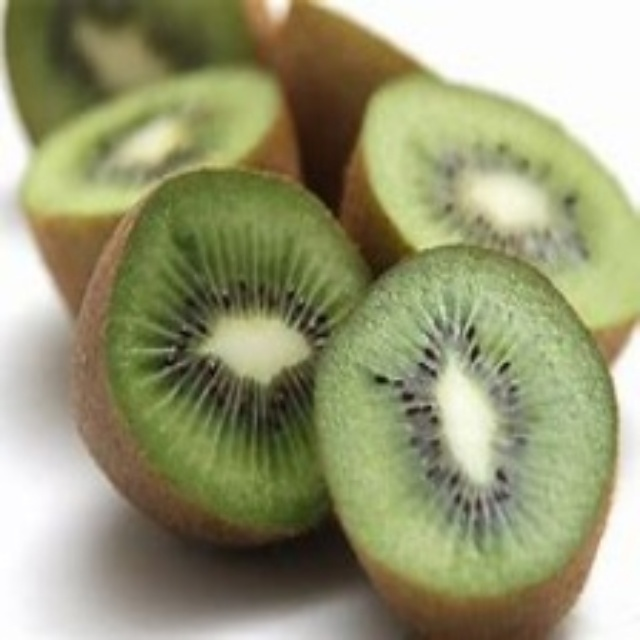kiwi: (73, 168, 382, 550), (320, 247, 622, 633), (348, 80, 639, 364), (29, 75, 318, 321)
